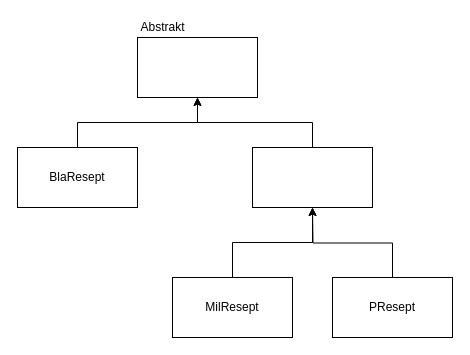
This 470x355 diagram has some shape labels left out. Each missing label, with the box of its shape:
HvitResept: (252, 146, 372, 208)
Resept: (136, 36, 258, 98)
